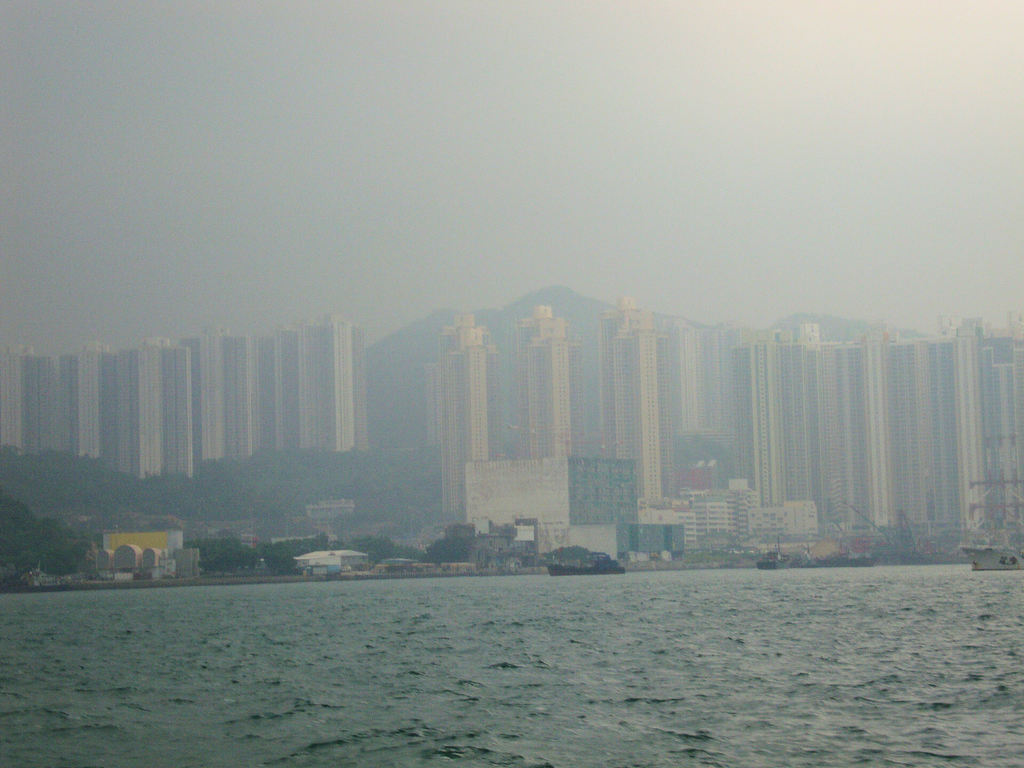boat: (947, 408, 1024, 582), (529, 552, 643, 586), (751, 532, 797, 577)
